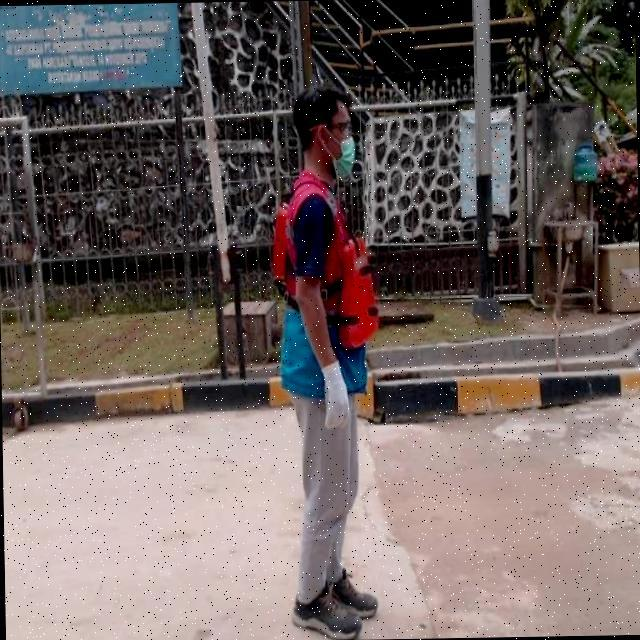goggles_on: (302, 117, 362, 141)
